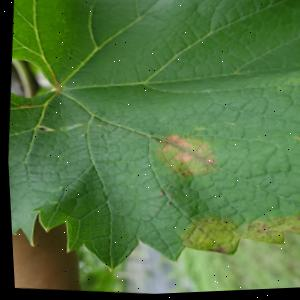Folha: (0, 0, 300, 293)
Fungo: (137, 131, 219, 229), (171, 205, 300, 266), (150, 133, 216, 184), (172, 214, 239, 259), (238, 212, 300, 251), (168, 142, 205, 166), (157, 134, 191, 156), (167, 163, 192, 181), (168, 151, 190, 165), (171, 139, 190, 150), (157, 144, 170, 154), (163, 136, 176, 143), (201, 159, 211, 166), (19, 103, 32, 108), (154, 190, 161, 197), (183, 170, 191, 176), (164, 196, 170, 201), (165, 186, 169, 191)
